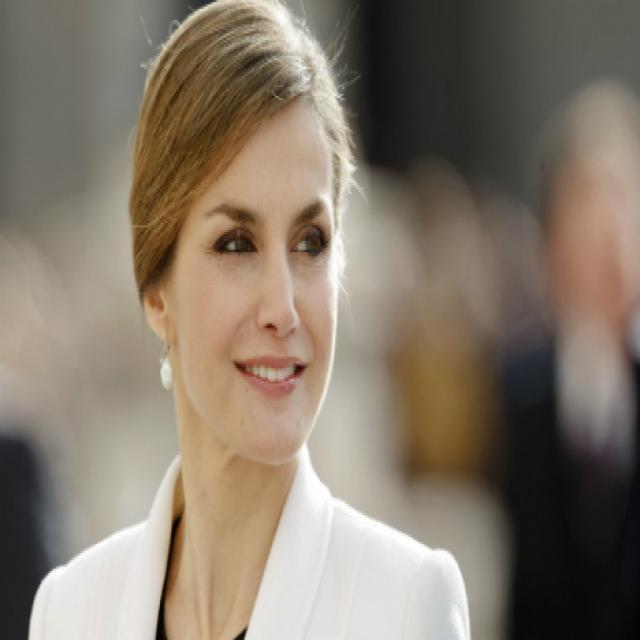mobile_phonerotation: (27, 0, 472, 636)
